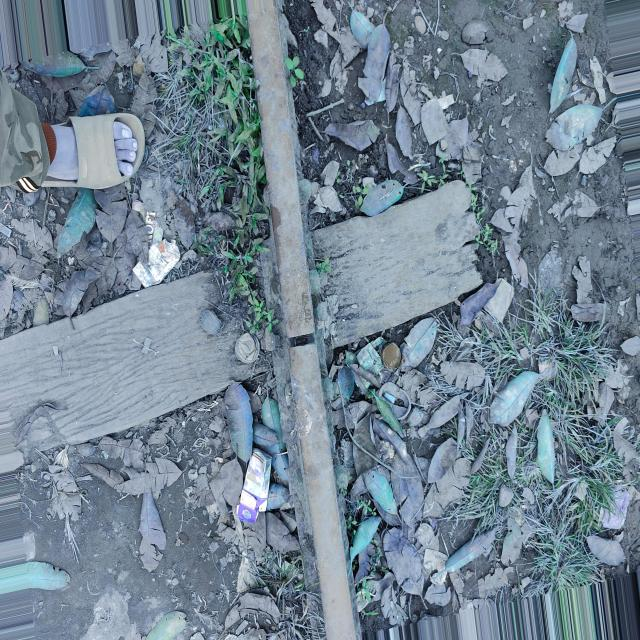crack: (261, 300, 327, 378)
